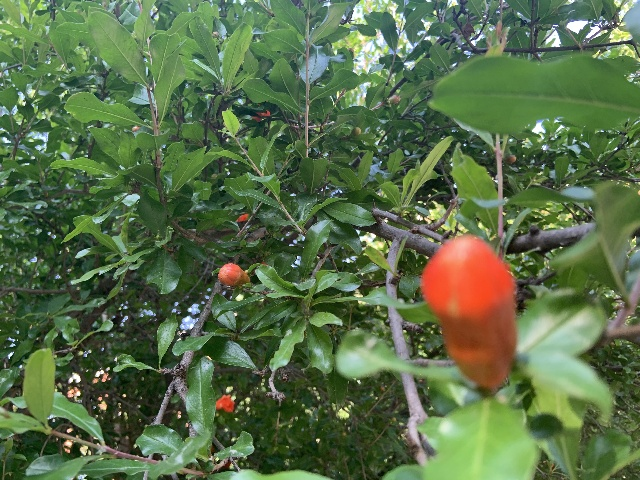bud: (419, 234, 517, 391), (217, 262, 248, 286)
flower: (215, 393, 234, 412)
